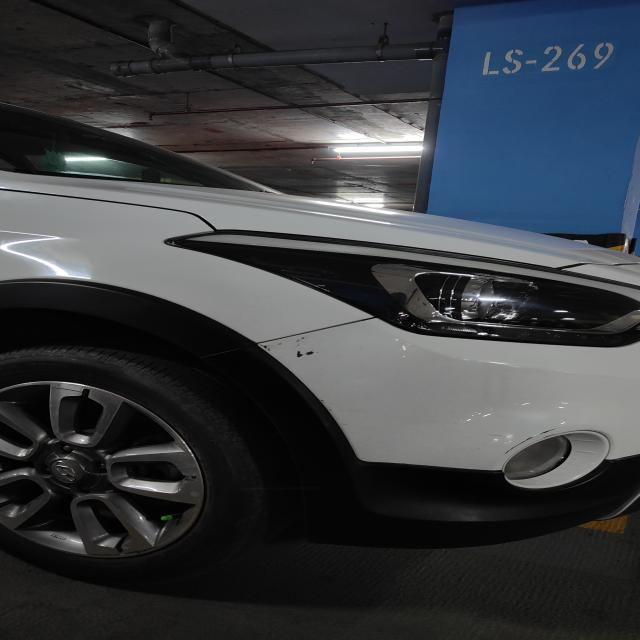scratch: (263, 338, 354, 364)
